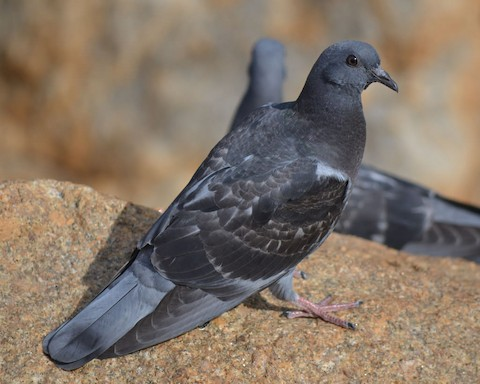pigeon: (37, 37, 403, 376)
